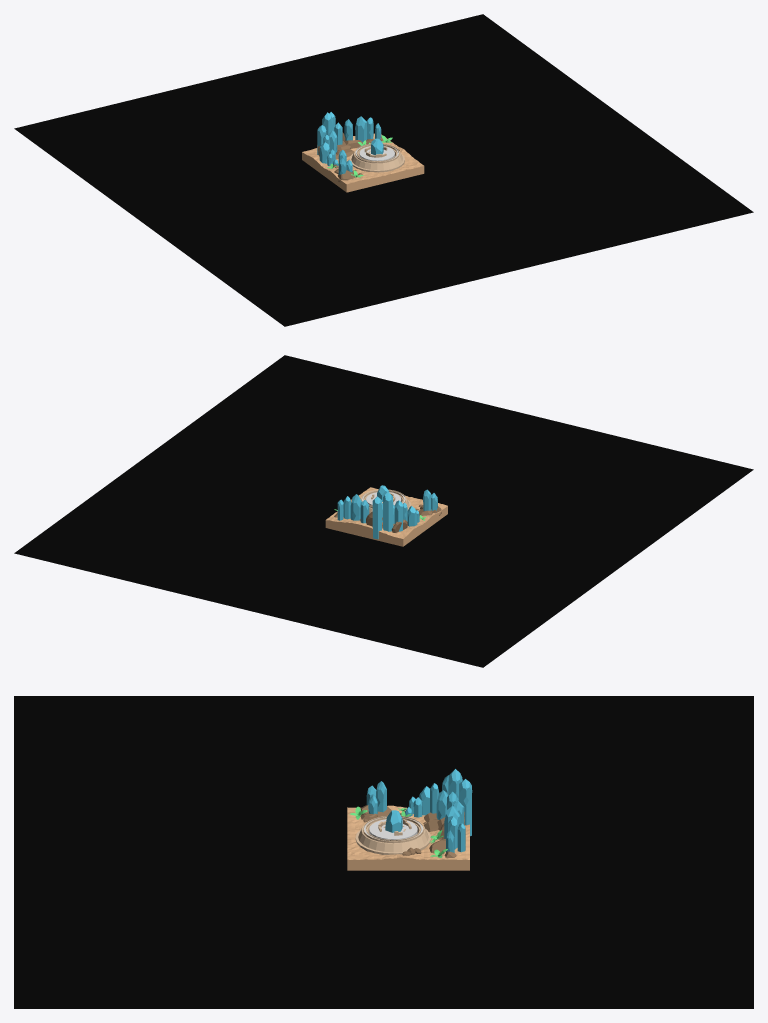
The model's file is Crystal Desert.000.fbx.
3 renders of one model, top to bottom at view 1: azimuth 30°, elevation 25°; view 2: azimuth 150°, elevation 25°; view 3: azimuth 270°, elevation 25°, orthographic. The views are drawn at different scales.
Visible parts, largest first — view 1: Stone.025, Ground, Metal.000; view 2: Stone.025, Ground; view 3: Stone.025, Ground, Metal.000, Circle.001.
Boxes of the visible parts, x1,y1,x2,y2 form: Stone.025: (14, 14, 753, 326); Ground: (302, 133, 424, 192); Metal.000: (349, 143, 404, 172); Stone.025: (14, 355, 753, 667); Ground: (325, 487, 447, 546); Stone.025: (14, 696, 753, 1008); Ground: (347, 805, 469, 870); Metal.000: (355, 816, 431, 854); Circle.001: (369, 819, 417, 839).
Bounding box in the file's own units: 4833 × 746 × 4833.
